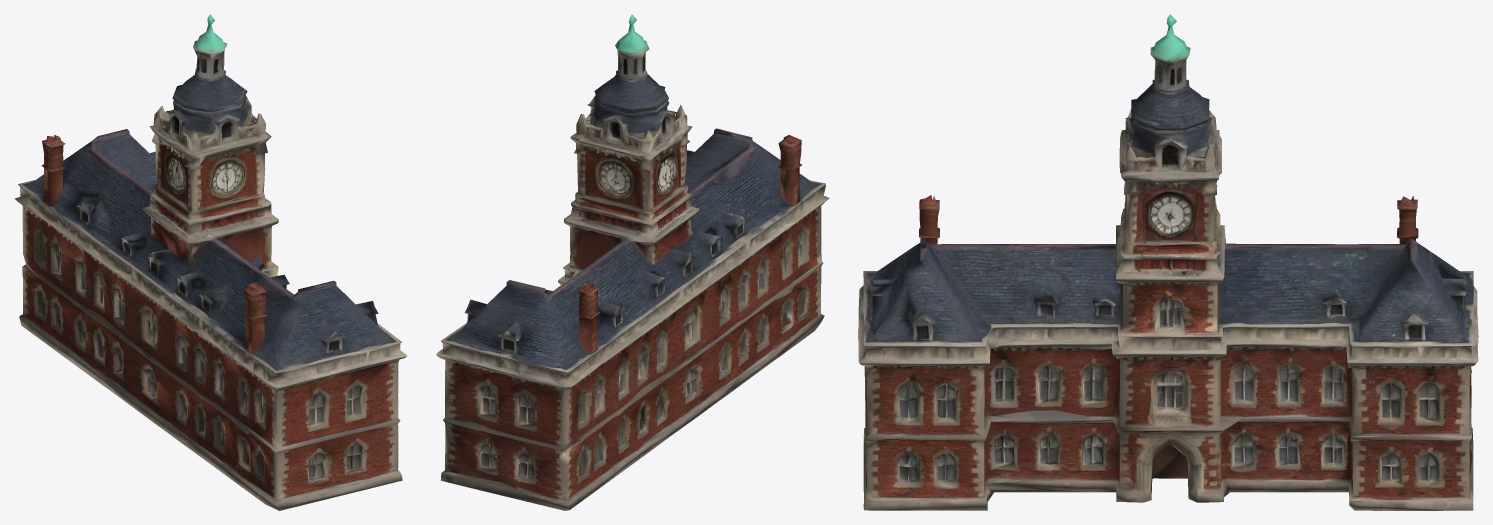
The model's file is university.glb.
3 views of the same model, side by side, from view 1: azimuth 30°, elevation 25°; view 2: azimuth 150°, elevation 25°; view 3: azimuth 270°, elevation 25° (orthographic). The views are drawn at different scales.
Parts seen in each view (by area): view 1: tripo_node_6ec0653b-3d32-442a-bd8a-90188a3c1060; view 2: tripo_node_6ec0653b-3d32-442a-bd8a-90188a3c1060; view 3: tripo_node_6ec0653b-3d32-442a-bd8a-90188a3c1060.
Boxes of the visible parts, x1=… form: tripo_node_6ec0653b-3d32-442a-bd8a-90188a3c1060: x1=14, y1=14, x2=407, y2=510; tripo_node_6ec0653b-3d32-442a-bd8a-90188a3c1060: x1=436, y1=14, x2=829, y2=510; tripo_node_6ec0653b-3d32-442a-bd8a-90188a3c1060: x1=858, y1=14, x2=1478, y2=510.
Bounding box in the file's own units: 0.2983 × 0.8198 × 1.
1 material, 1 textured.
